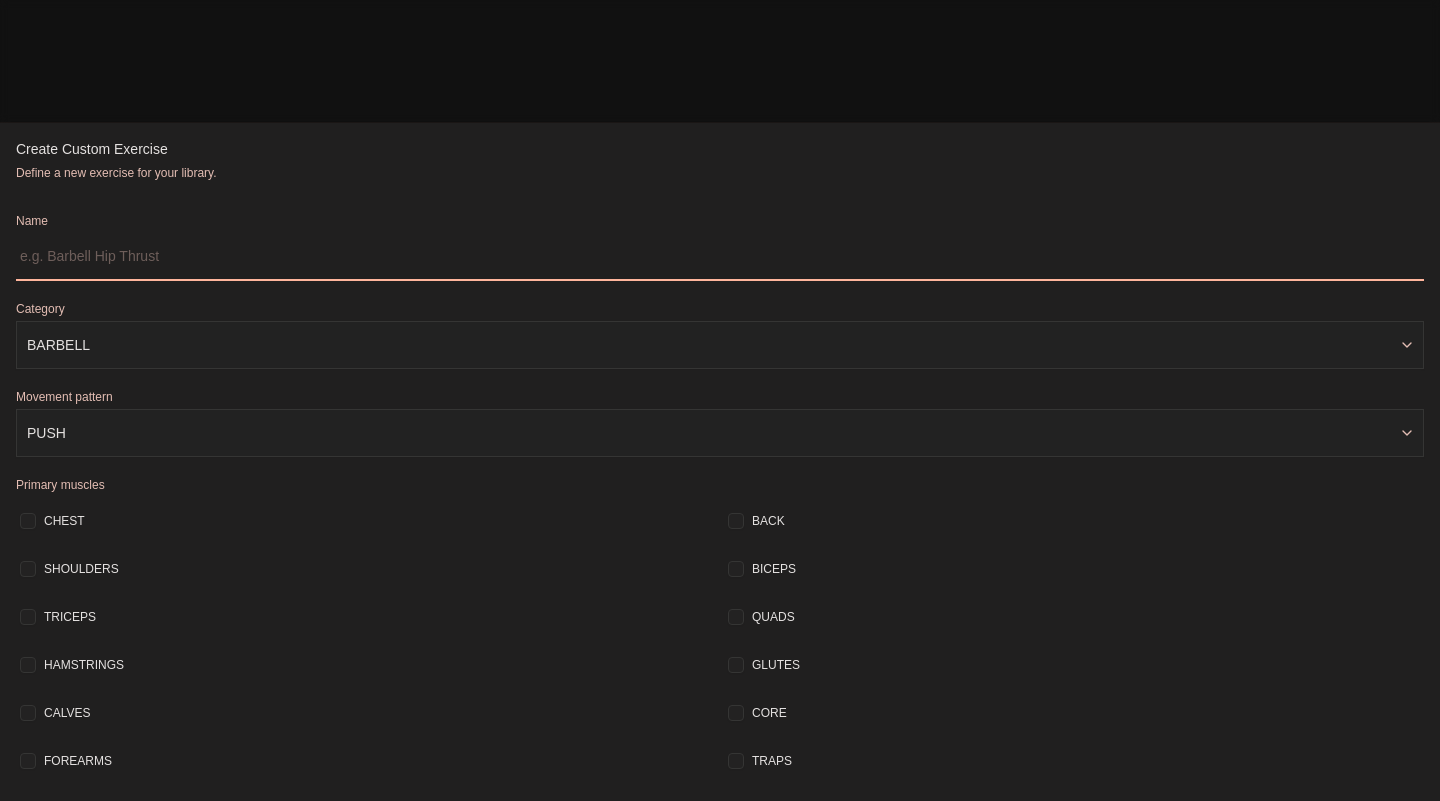
CreateExerciseSheet › shows validation error when no primary muscles selected
Note: Fill in name but leave muscles empty
Type "Test Exercise" into the field with placeholder "e.g. Barbell Hip Thrust" at (720, 256), box [16,232,1424,280]
(page scrolled)
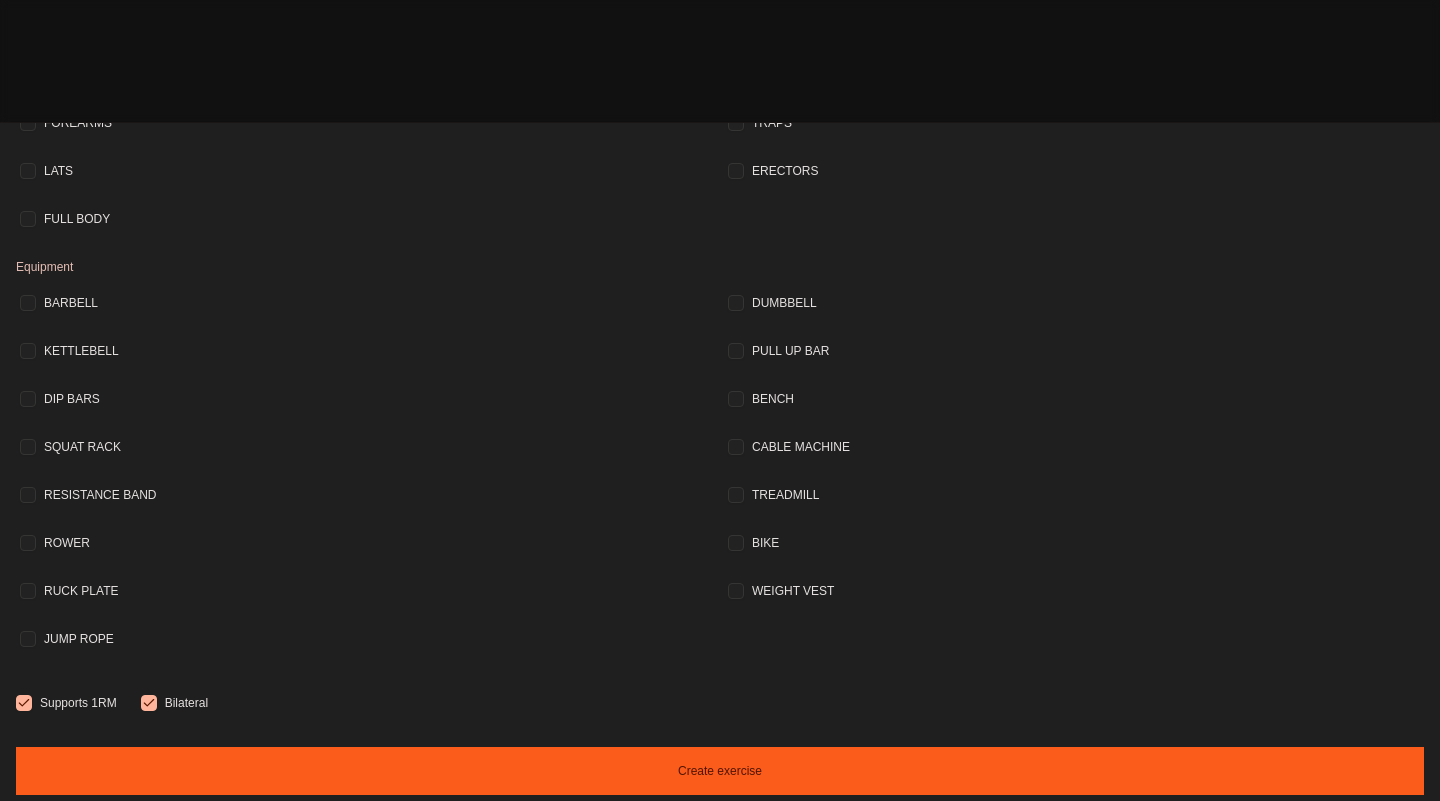
Click the button "Create exercise" at (720, 770), box [16,746,1424,794]
(page scrolled)
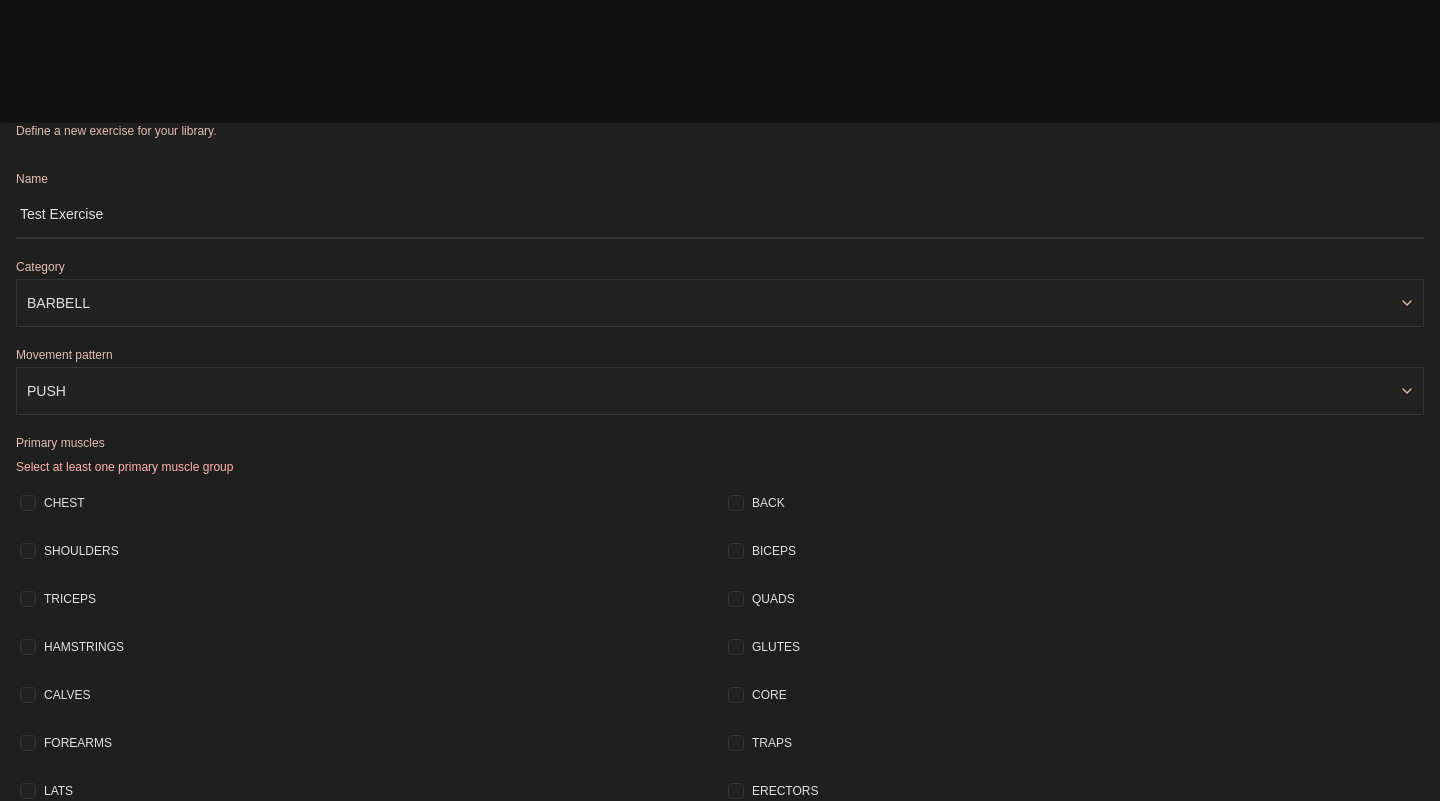
Now the text "Select at least one primary muscle group" is shown, box [16,460,233,474]
